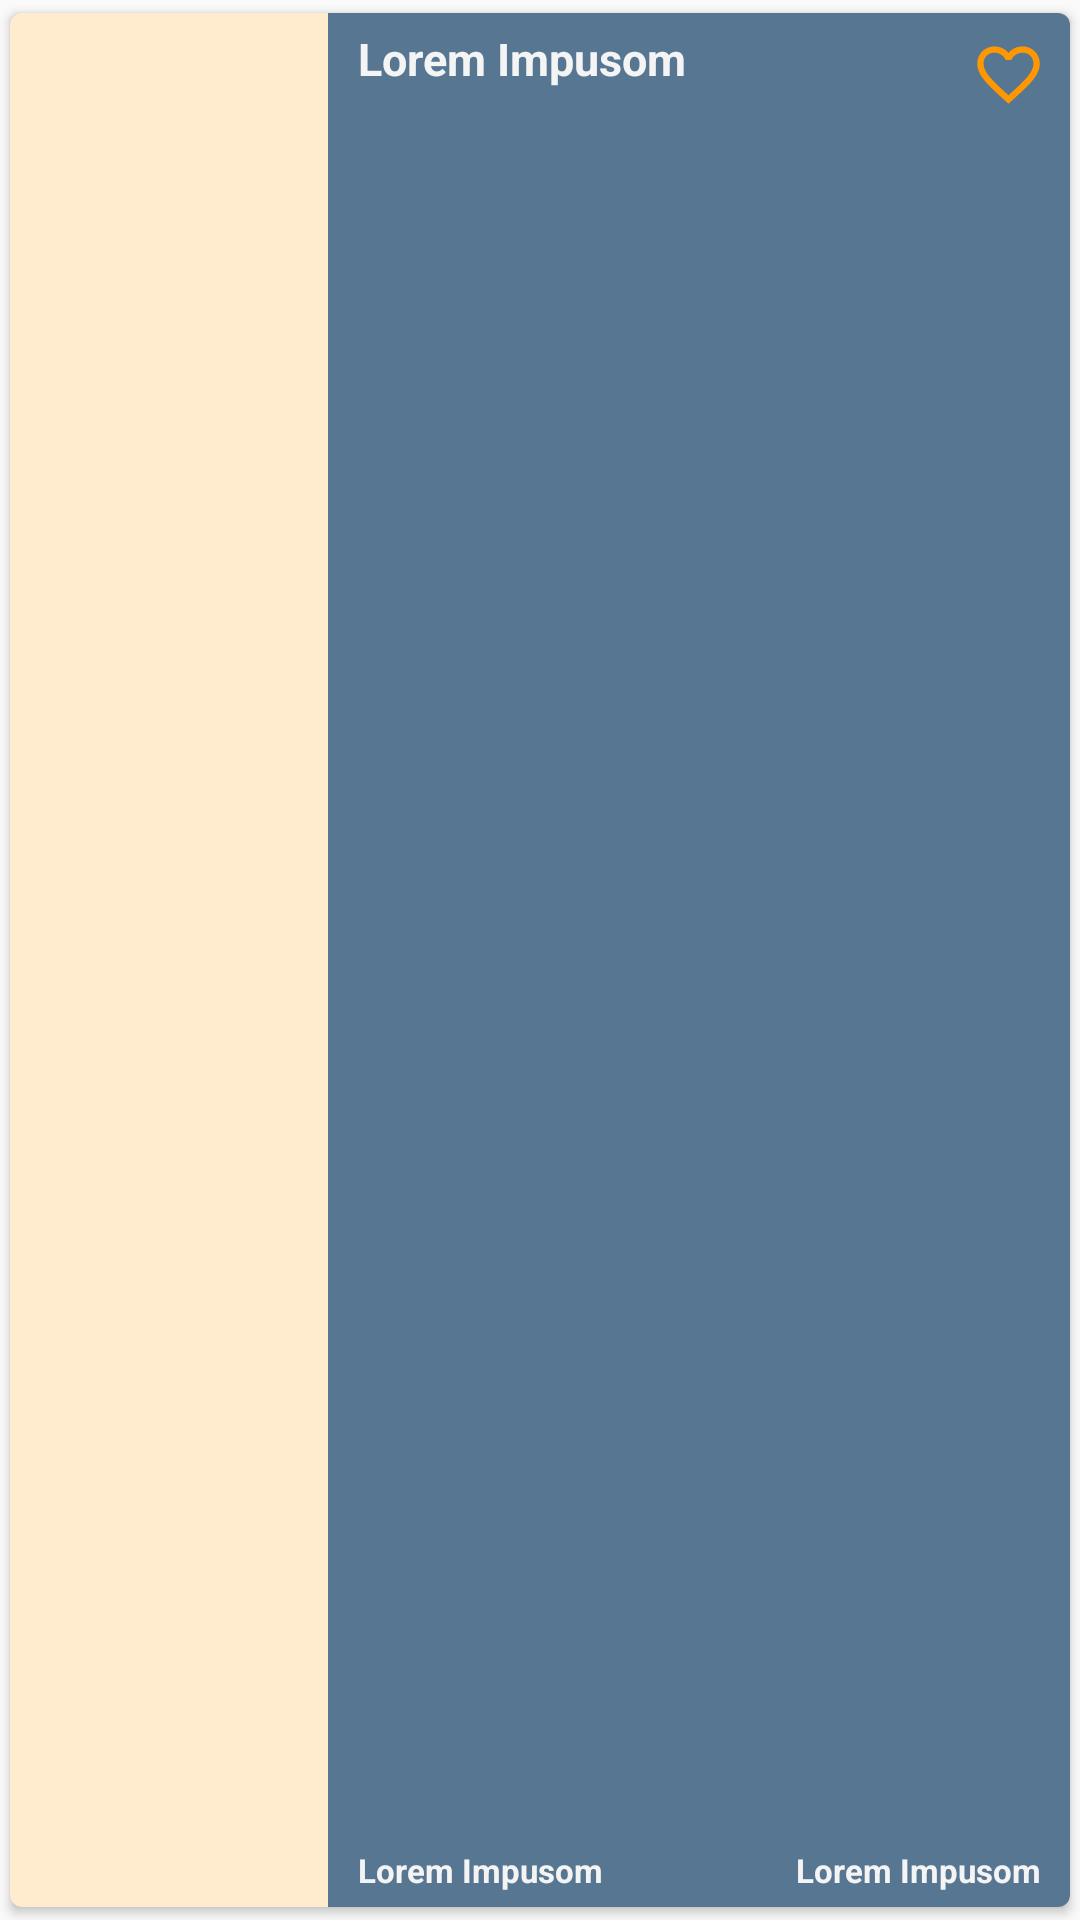

Icons on this 1080px×1920px Android screen, each with the point to tap as [x,y]:
heart border: [1008,75]
